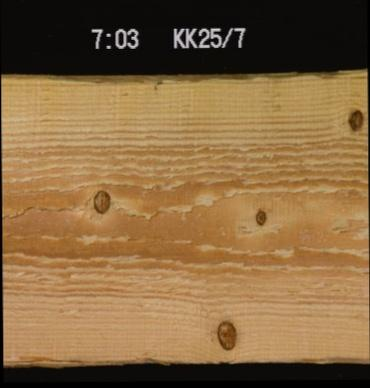dry_knot: (90, 186, 111, 213), (344, 105, 364, 132), (251, 206, 267, 226)
wave: (2, 349, 365, 368), (0, 71, 297, 91)
